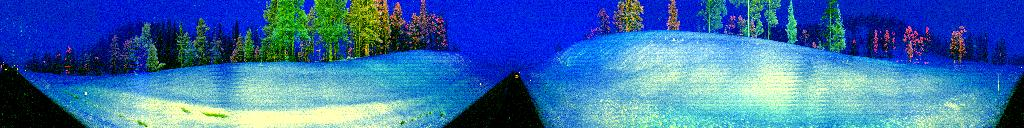pole: (83, 86, 89, 120), (996, 70, 1001, 100)
